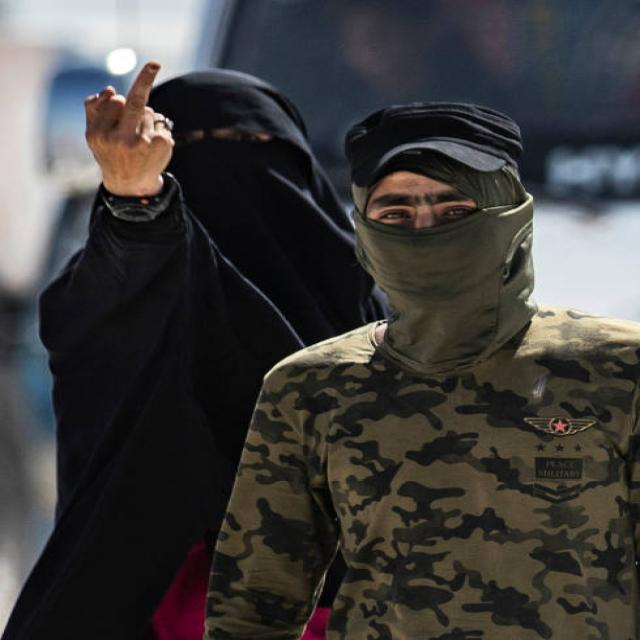6_pasamontana: (352, 164, 539, 374)
